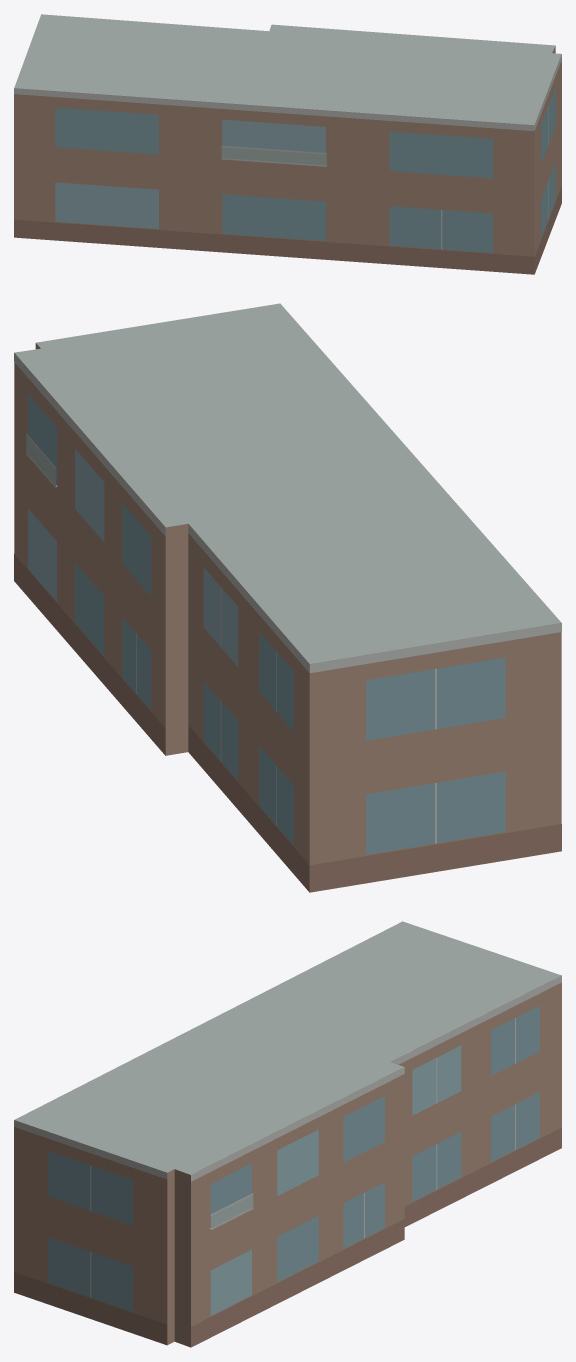
The model's file is survey-upis-32663761.glb.
3 renders of one model, top to bottom at view 1: azimuth 30°, elevation 25°; view 2: azimuth 150°, elevation 25°; view 3: azimuth 270°, elevation 25°, orthographic. The views are drawn at different scales.
Parts seen in each view (by area): view 1: survey-upis-32663761.tmp; view 2: survey-upis-32663761.tmp; view 3: survey-upis-32663761.tmp.
Boxes of the visible parts, bbox=[...] form: survey-upis-32663761.tmp: bbox=[14, 14, 561, 274]; survey-upis-32663761.tmp: bbox=[14, 303, 561, 892]; survey-upis-32663761.tmp: bbox=[14, 921, 561, 1347].
Size of the model in its own units: 19.23 by 6.1 by 17.55.
